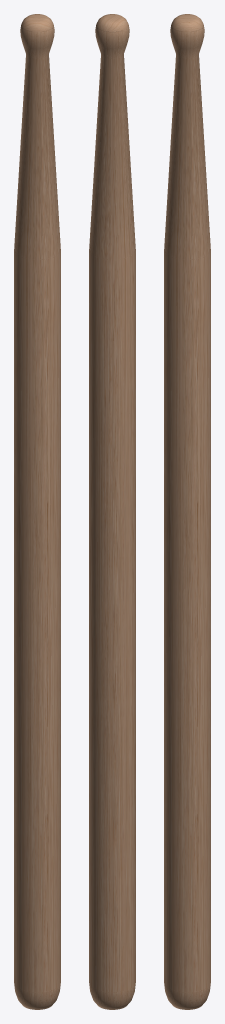
File: baguettes_baked.fbx
3 renders of one model, left to right at view 1: azimuth 90°, elevation 25°; view 2: azimuth 150°, elevation 25°; view 3: azimuth 270°, elevation 25°, orthographic.
Visible parts, largest first — view 1: Cylinder; view 2: Cylinder; view 3: Cylinder.
Part boxes in pixels (x1,y1,x2,y2): Cylinder: (14,14,60,1009); Cylinder: (89,14,135,1009); Cylinder: (164,14,210,1009).
Size of the model in its own units: 1.5 by 35 by 1.5.
Materials: 1 (1 with a texture image).
